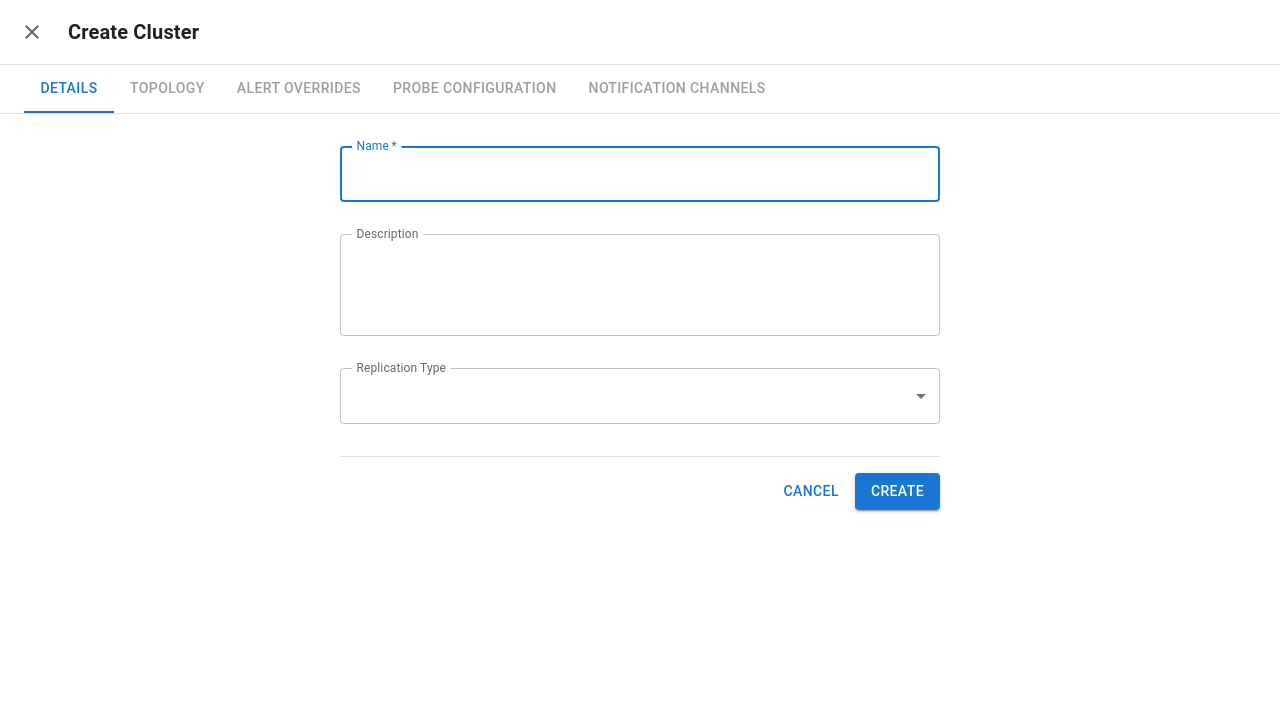
Test: ClusterConfigDialog › save flow › requires a replication type before creating a cluster
Type "Brand New Cluster" into the field labelled "Name *".
click(640, 174); type("Brand New Cluster")  # box [340,146,940,202]
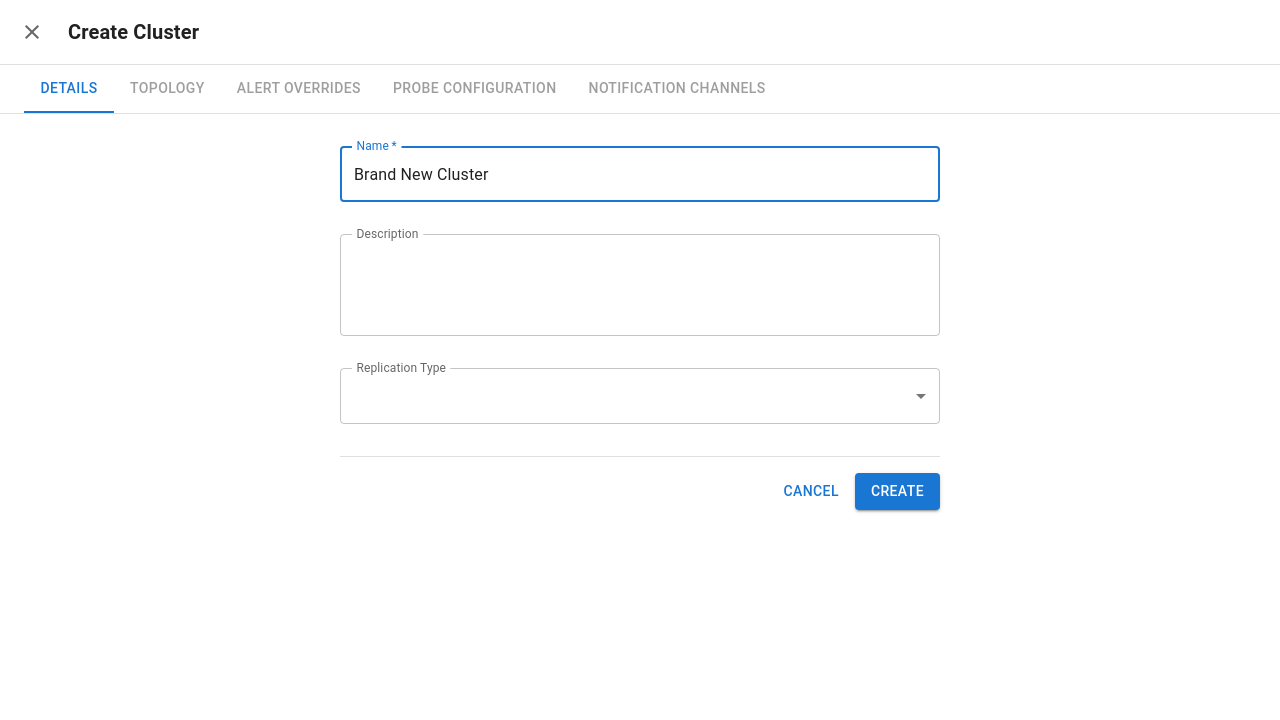
Click the button "Create".
click(897, 491)  # box [855,473,940,510]
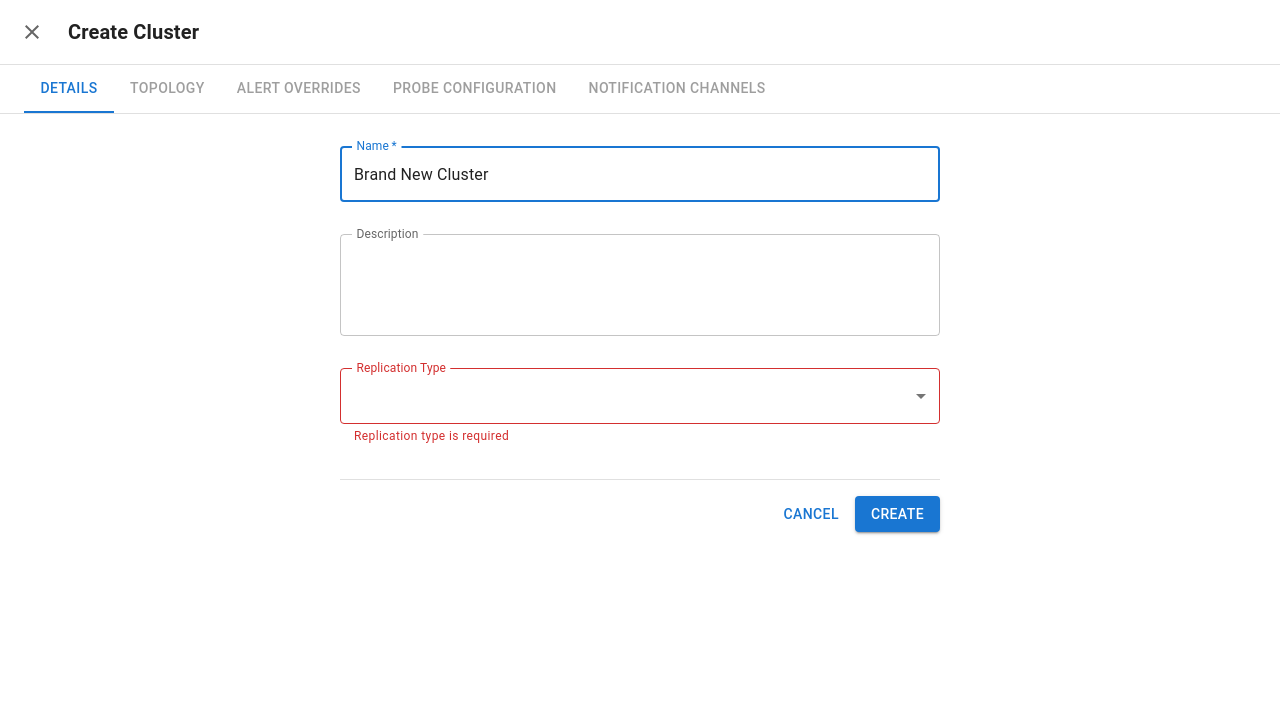
Check: the text "Replication type is required" is shown, box [354,429,509,443]
